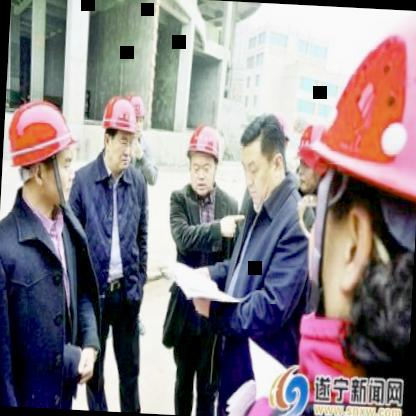helmet: (290, 8, 416, 340), (5, 96, 78, 201), (99, 93, 137, 170), (184, 122, 222, 195), (294, 124, 327, 186), (123, 86, 146, 134)
